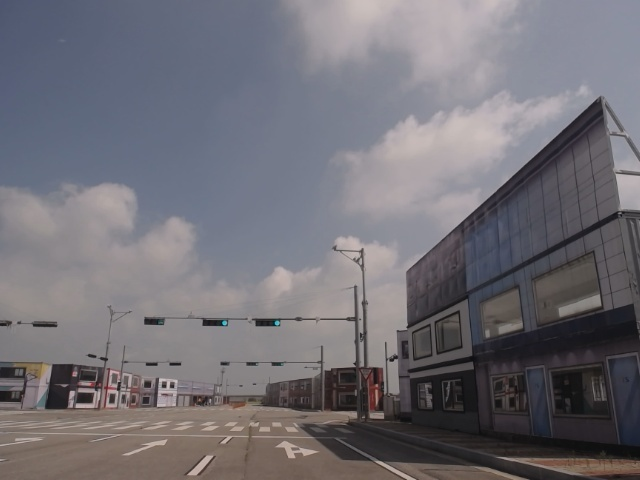straight_green_4: (202, 319, 229, 326), (255, 320, 281, 327)
